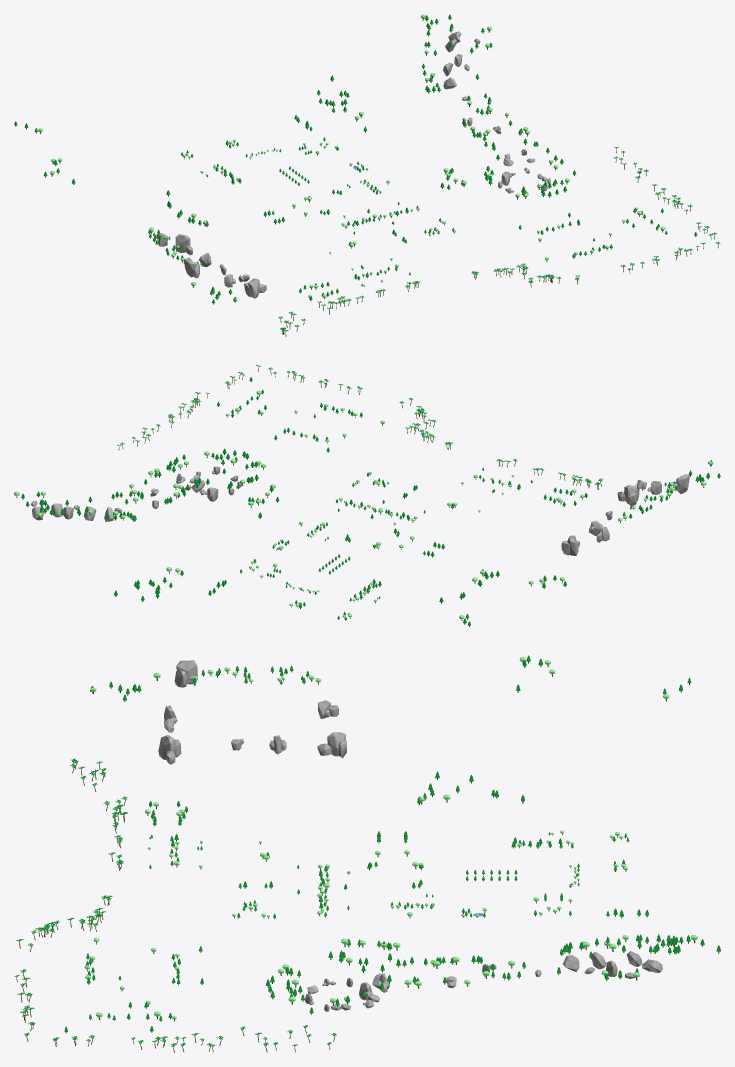
The model's file is TreesAndRocks.glb.
3 views of the same model, one above another, from view 1: azimuth 30°, elevation 25°; view 2: azimuth 150°, elevation 25°; view 3: azimuth 270°, elevation 25° (orthographic). The views are drawn at different scales.
Size of the model in its own units: 168 by 22.38 by 154.
